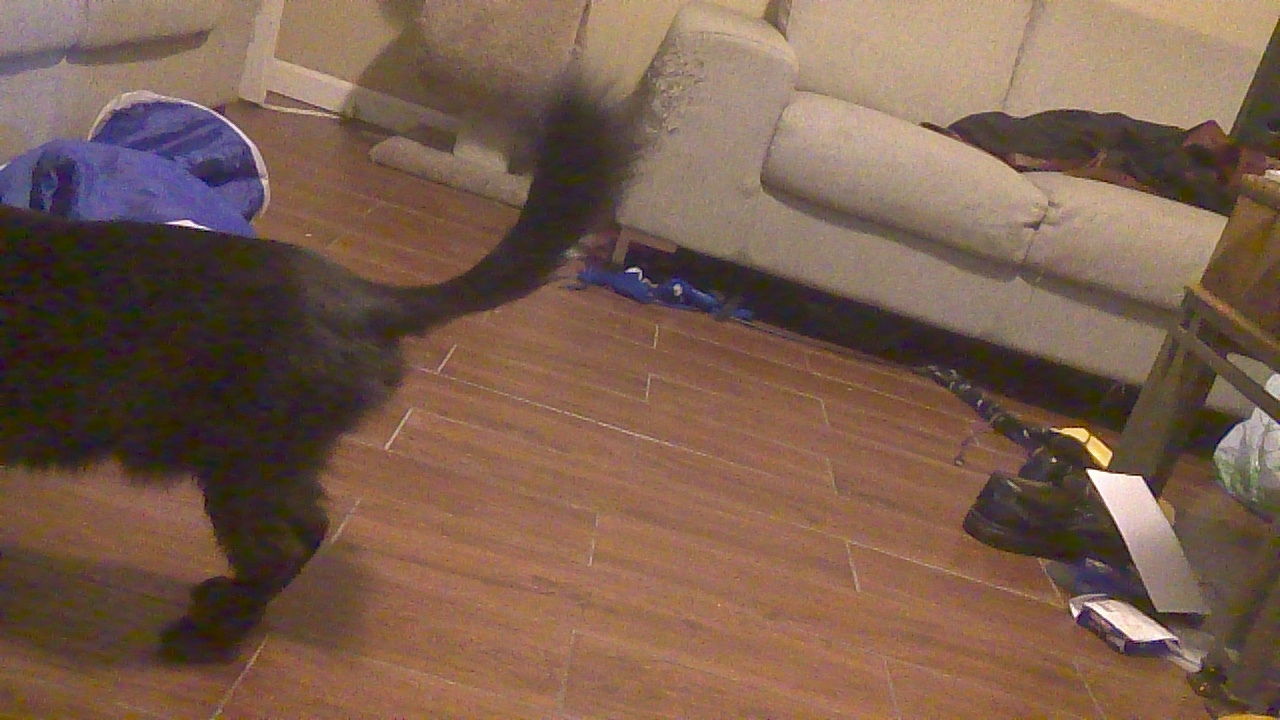cat: (1, 67, 636, 663)
